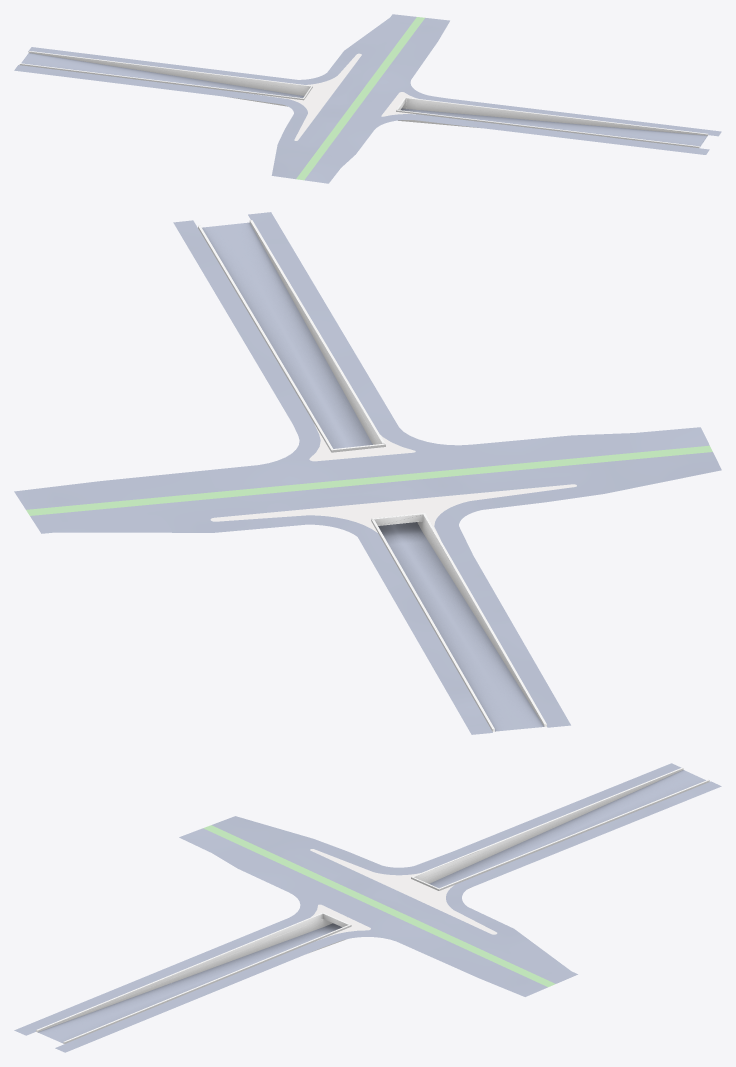
File: Al-Seifullin.glb
3 views of the same model, one above another, from view 1: azimuth 30°, elevation 25°; view 2: azimuth 150°, elevation 25°; view 3: azimuth 270°, elevation 25° (orthographic). The views are drawn at different scales.
Visible parts, largest first — view 1: group_1.001, group_1, group_4, group_2, group_0, group_5.001, group_5; view 2: group_1.001, group_1, group_2, group_4, group_0, group_5.001, group_5; view 3: group_1.001, group_1, group_2, group_4, group_0, group_5.001, group_5.
Part boxes in pixels (x1,y1,x2,y2): group_1.001: [14, 14, 416, 179]; group_1: [304, 18, 721, 183]; group_4: [19, 51, 708, 148]; group_2: [21, 53, 707, 146]; group_0: [296, 17, 424, 180]; group_5.001: [253, 53, 361, 140]; group_5: [381, 92, 418, 116]; group_1.001: [30, 452, 721, 734]; group_1: [14, 212, 709, 509]; group_2: [202, 222, 543, 731]; group_4: [198, 220, 546, 731]; group_0: [26, 445, 712, 515]; group_5.001: [210, 484, 576, 539]; group_5: [309, 424, 415, 461]; group_1.001: [211, 763, 721, 983]; group_1: [14, 828, 547, 1052]; group_2: [38, 770, 705, 1043]; group_4: [36, 767, 709, 1043]; group_0: [203, 825, 555, 987]; group_5.001: [310, 849, 497, 934]; group_5: [311, 904, 370, 940].
Bounding box in the file's own units: 363 × 8 × 375.
Materials: 4 (2 with a texture image).
